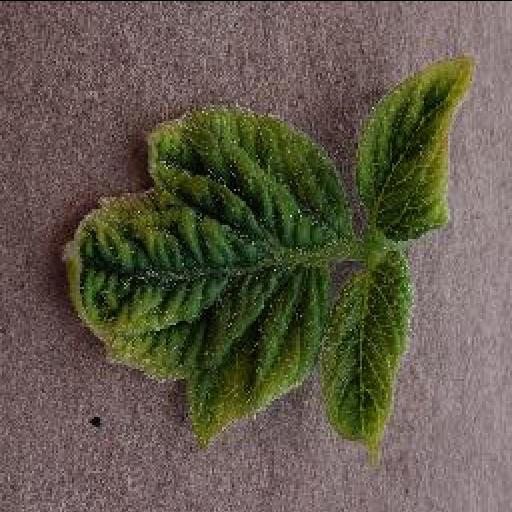disease_tomato: (61, 104, 347, 437), (352, 46, 474, 241), (321, 254, 419, 460)
